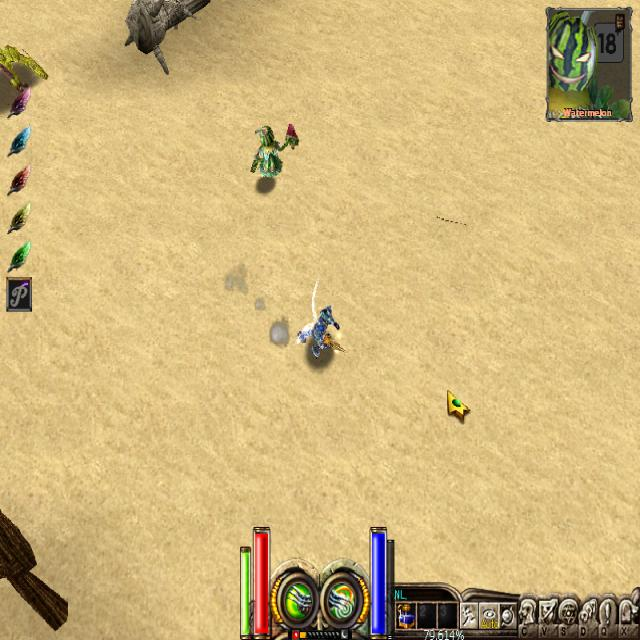monster: (250, 127, 304, 183)
